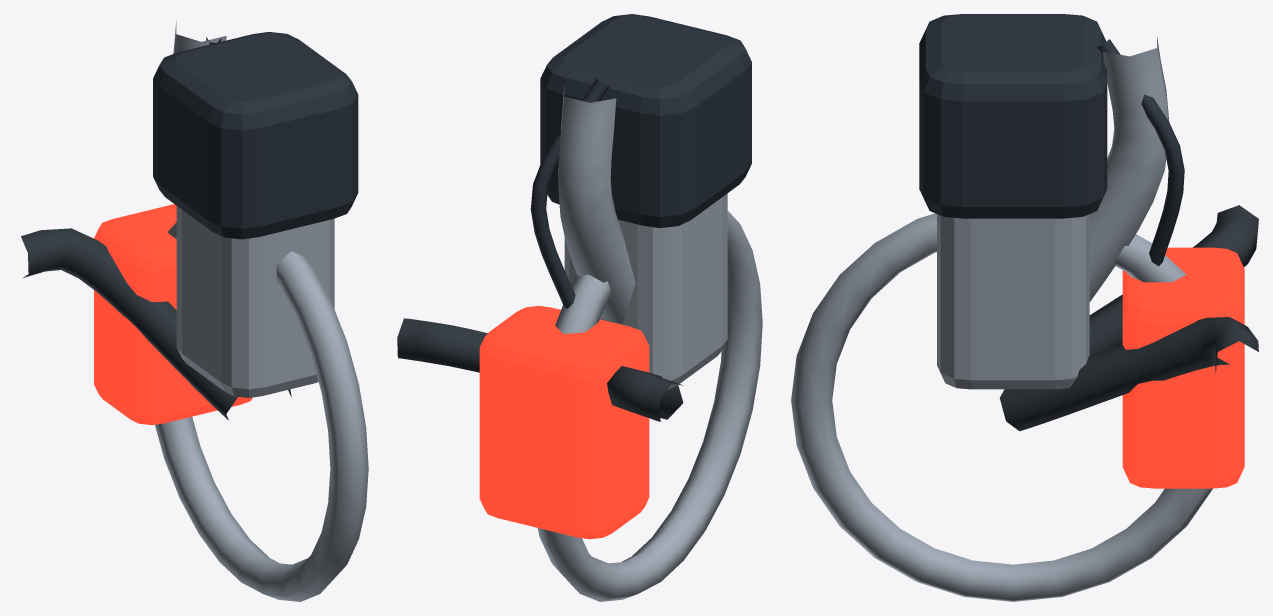
The model's file is retractable_road_gear.gltf.
3 renders of one model, left to right at view 1: azimuth 30°, elevation 25°; view 2: azimuth 150°, elevation 25°; view 3: azimuth 270°, elevation 25°, orthographic. The views are drawn at different scales.
Visible parts, largest first — view 1: retractable_road_gear; view 2: retractable_road_gear; view 3: retractable_road_gear.
Part boxes in pixels (left/top/right/bottom): retractable_road_gear: left=21, top=21, right=368, bottom=601; retractable_road_gear: left=397, top=14, right=762, bottom=601; retractable_road_gear: left=791, top=14, right=1258, bottom=601.
Size of the model in its own units: 0.368 by 0.6929 by 0.5221.
